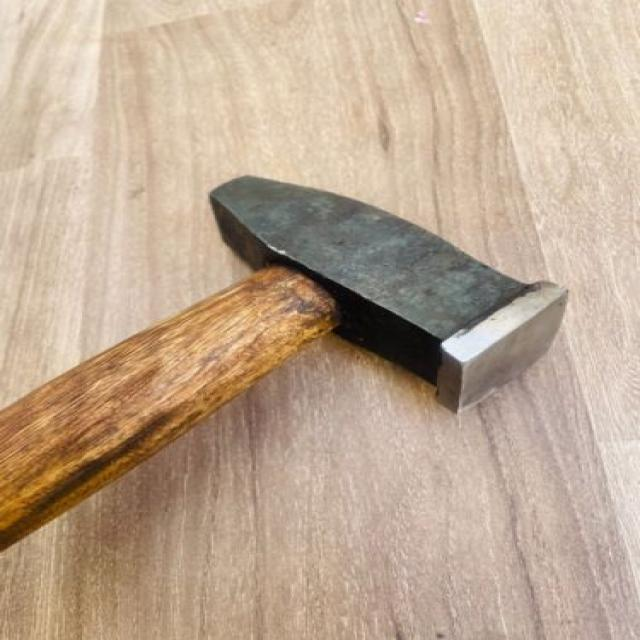hammer: (0, 160, 585, 551)
